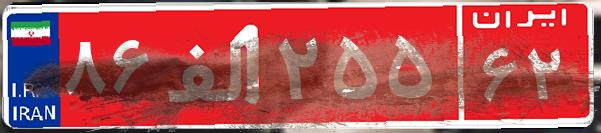2: (273, 28, 330, 110), (525, 38, 570, 115)
5: (385, 28, 445, 110), (330, 28, 385, 110)
6: (475, 38, 525, 113), (110, 28, 158, 105)
8: (57, 26, 110, 107)
الف: (158, 15, 273, 115)
